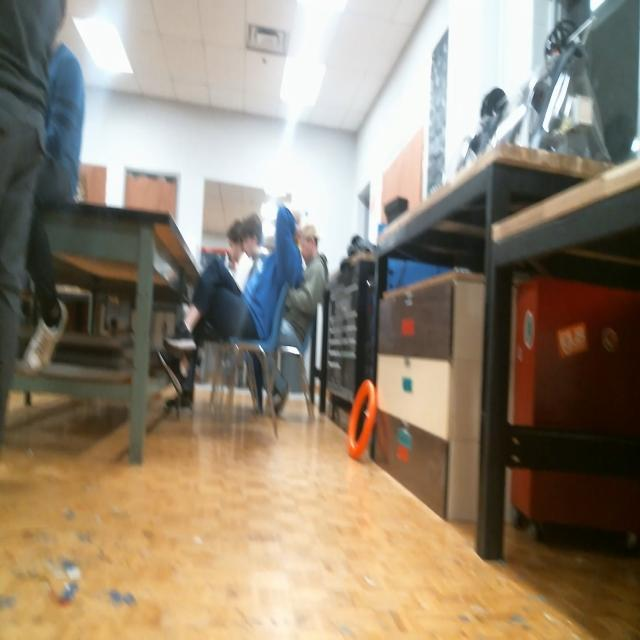note: (347, 382, 377, 459)
